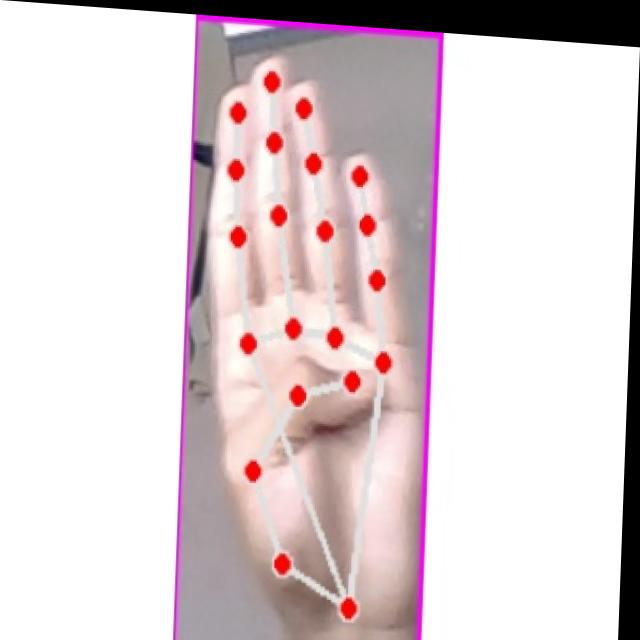B: (197, 41, 429, 634)
